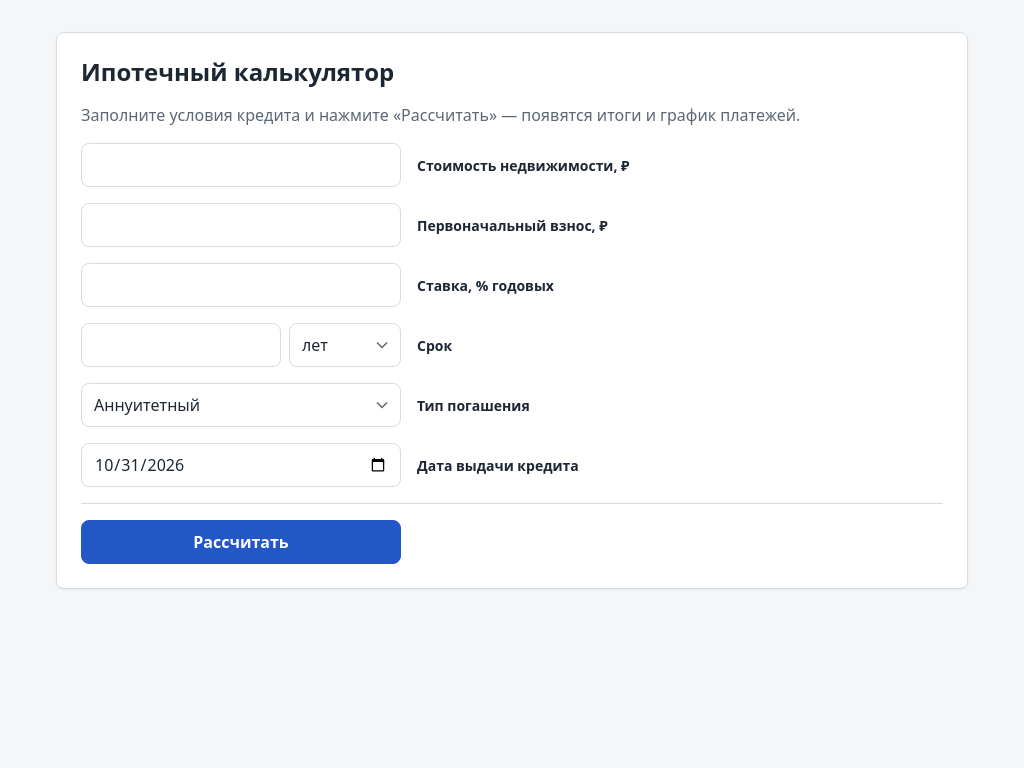
it: 422 с downPayment → сообщение у поля «Первоначальный взнос»
Type "5000000" into the field labelled "Стоимость недвижимости, ₽" at x=241, y=165, box [81,143,401,187]
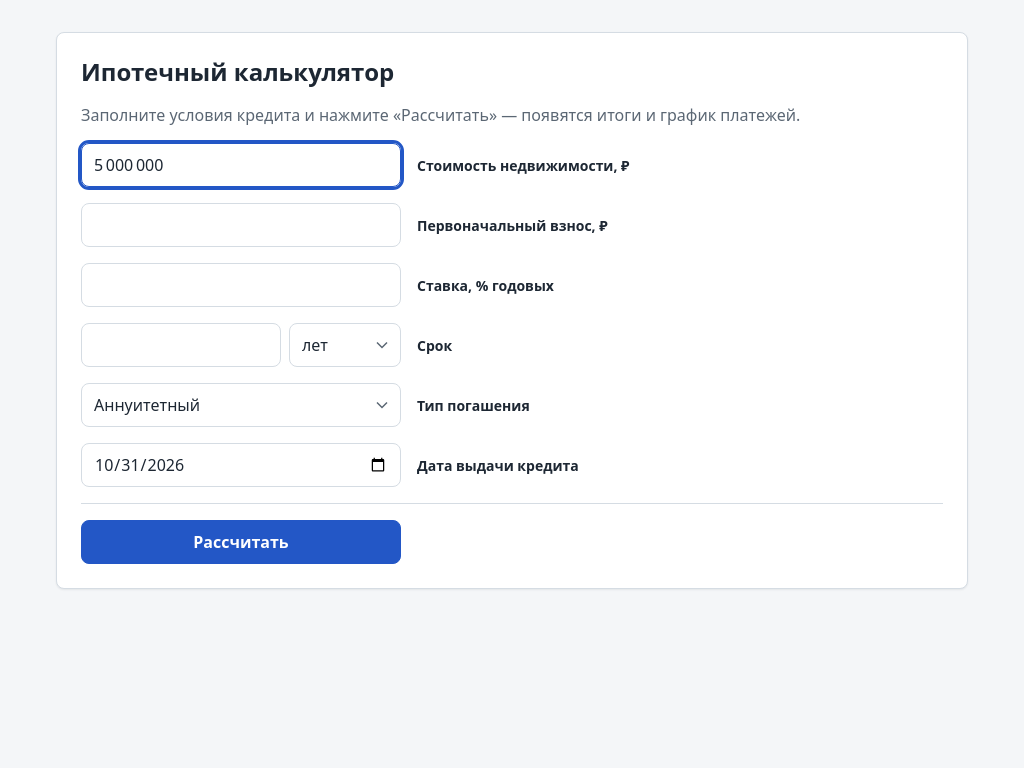
Type "1000000" into the field labelled "Первоначальный взнос, ₽" at x=241, y=225, box [81,203,401,247]
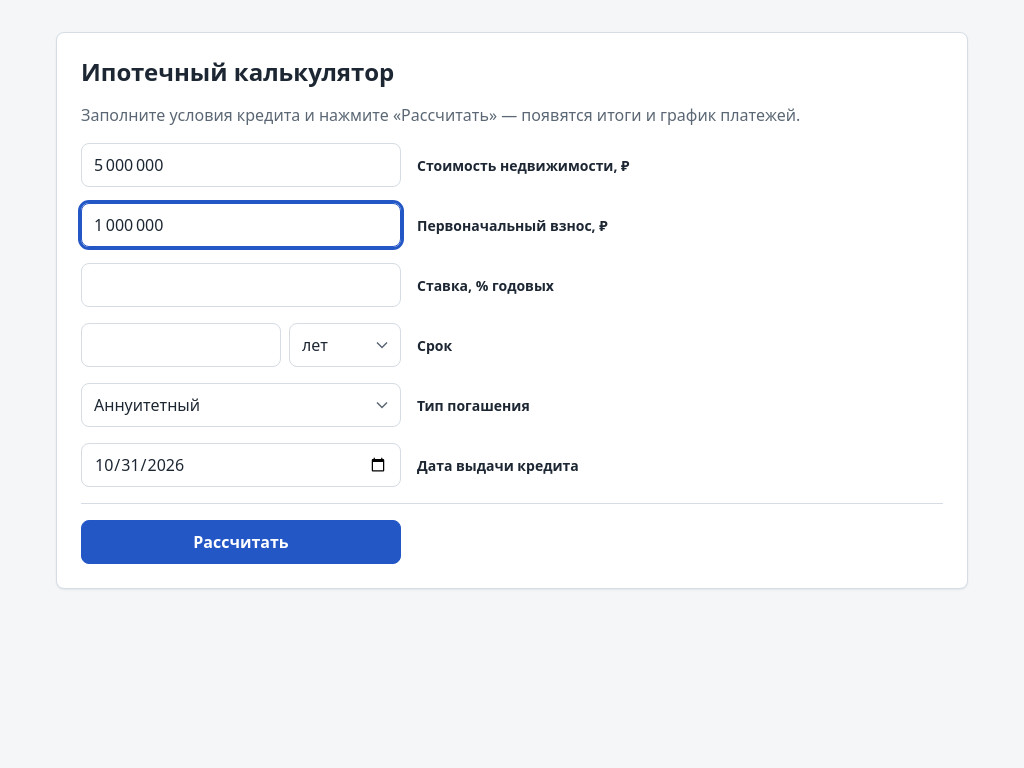
Type "18.5" into the field labelled "Ставка, % годовых" at x=241, y=285, box [81,263,401,307]
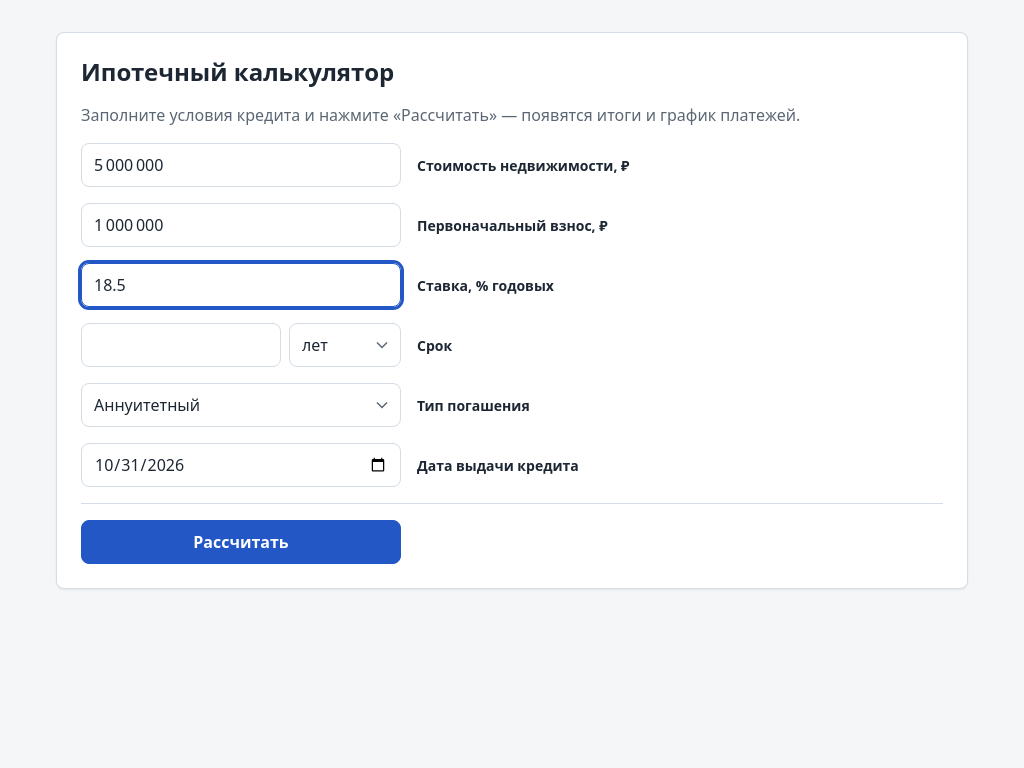
Type "20" into the field labelled "Срок" at x=181, y=345, box [81,323,281,367]
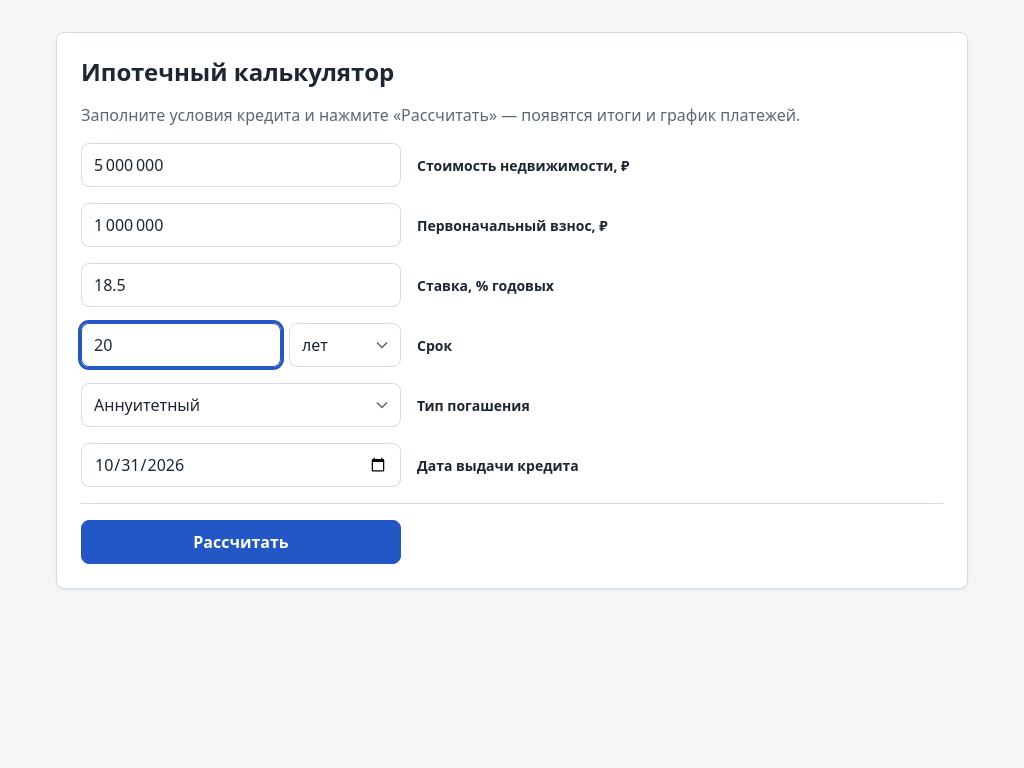
Click the button "Рассчитать" at x=241, y=542, box [81,520,401,564]
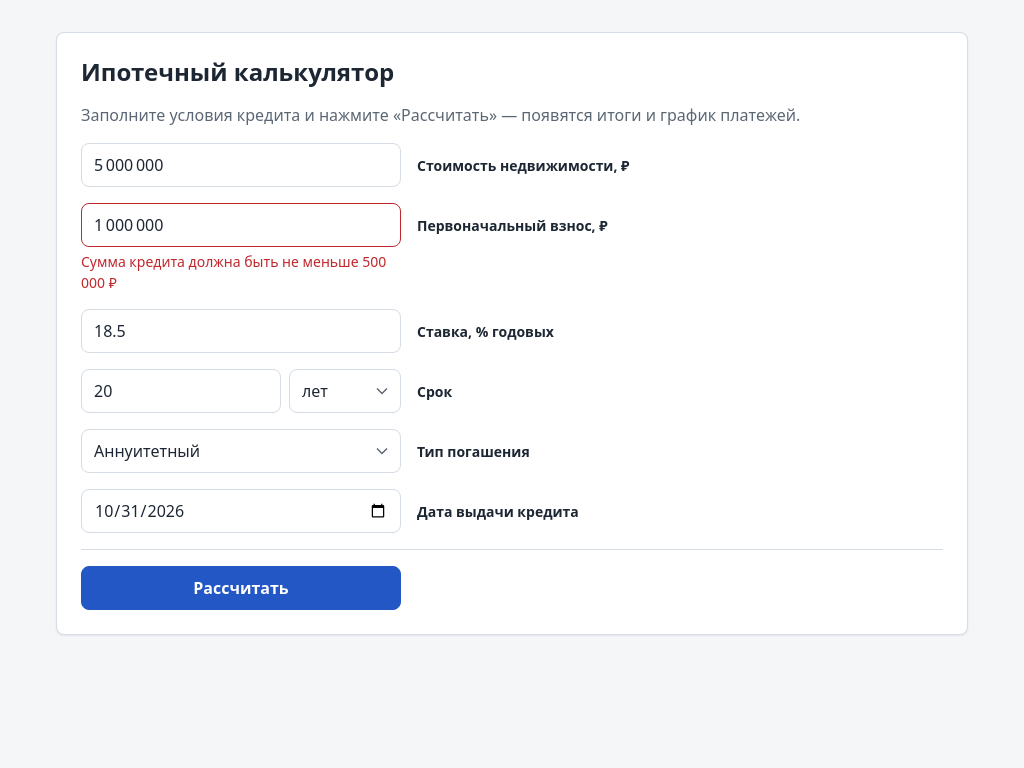
Expected: the text "Сумма кредита должна быть не меньше 500 000 ₽" is shown, [81,251,401,293]
